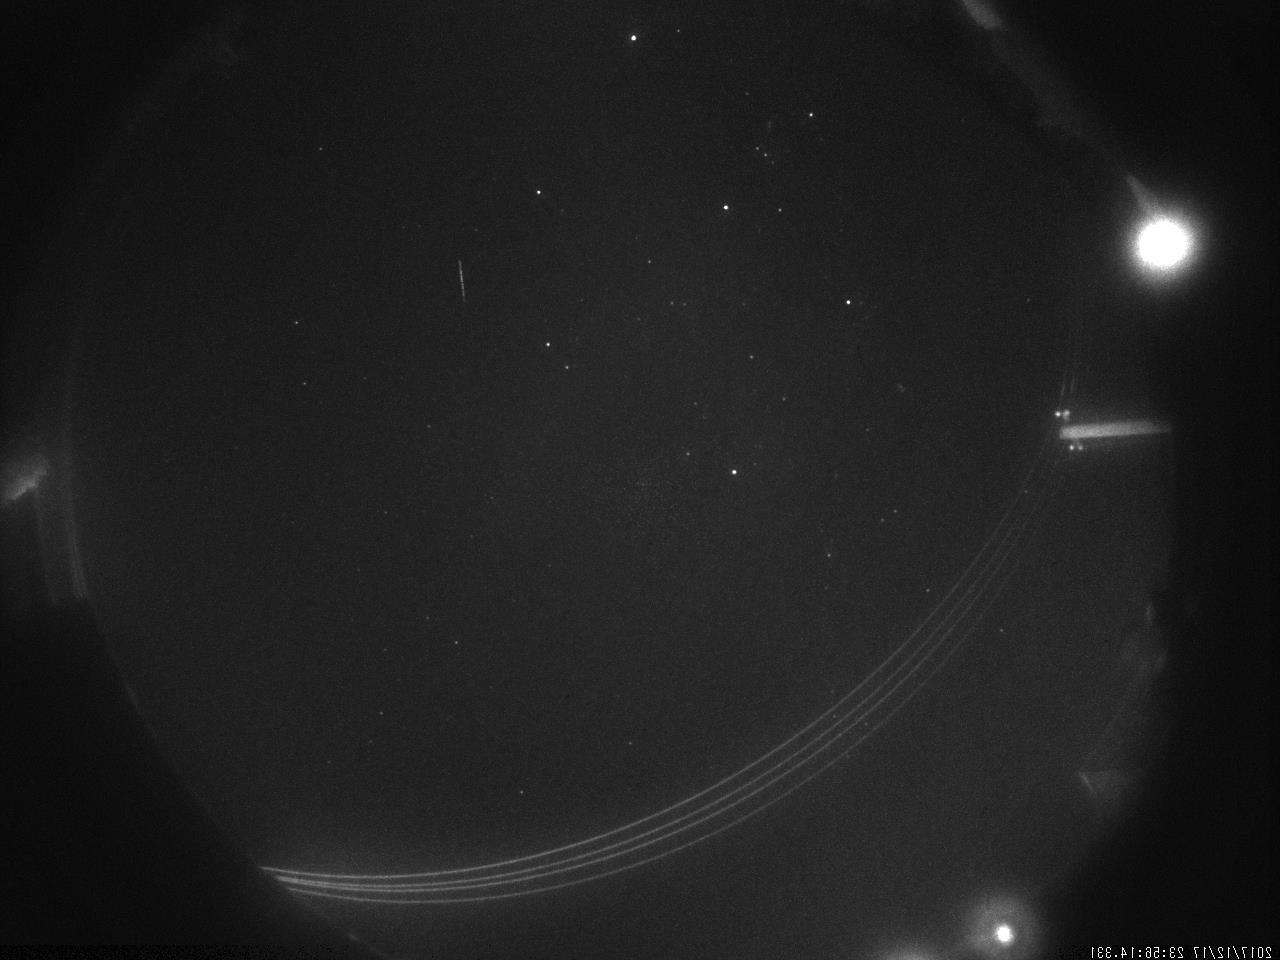meteor: (447, 257, 470, 322)
